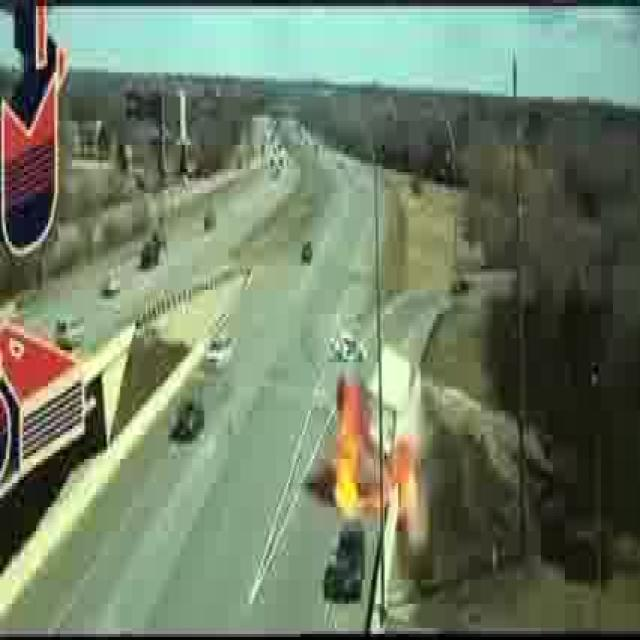multiple_accident: (352, 333, 410, 508)
